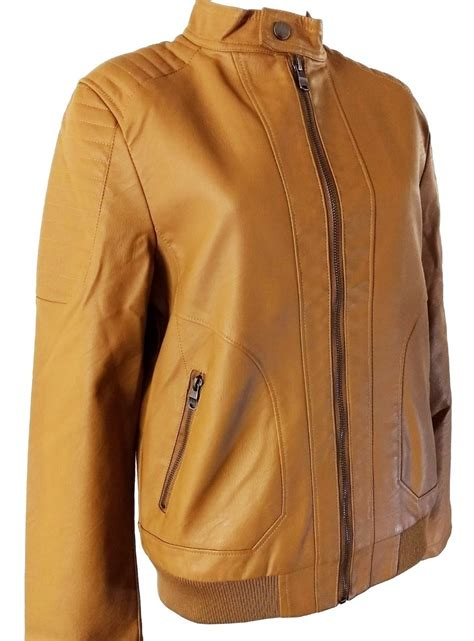cuero: (23, 1, 455, 641)
